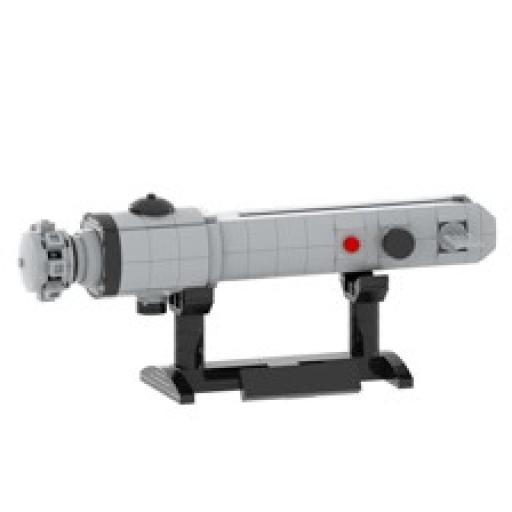lightsaber: (17, 193, 500, 317)
